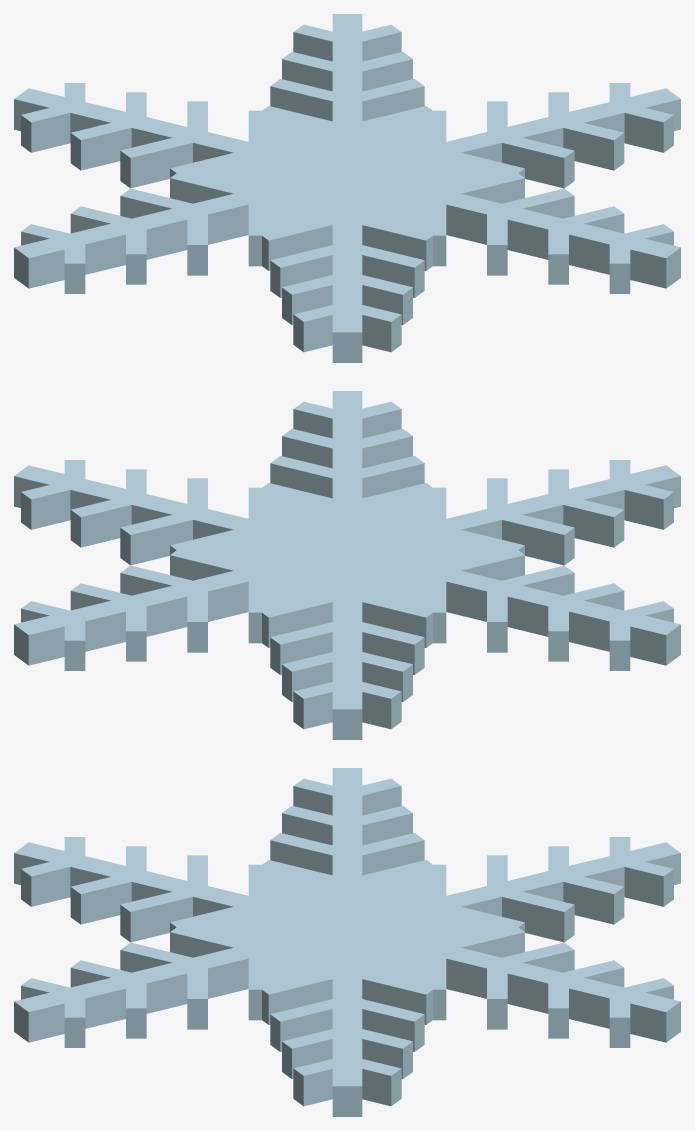
File: NEW_RECOVERY_071_LOD0.glb
3 renders of one model, top to bottom at view 1: azimuth 30°, elevation 25°; view 2: azimuth 150°, elevation 25°; view 3: azimuth 270°, elevation 25°, orthographic.
Visible parts, largest first — view 1: Snowflake_solid; view 2: Snowflake_solid; view 3: Snowflake_solid.
Part boxes in pixels (x1=…): Snowflake_solid: x1=14, y1=14, x2=680, y2=362; Snowflake_solid: x1=14, y1=391, x2=680, y2=739; Snowflake_solid: x1=14, y1=768, x2=680, y2=1116.
Bounding box in the file's own units: 2.8 × 0.125 × 2.48.
